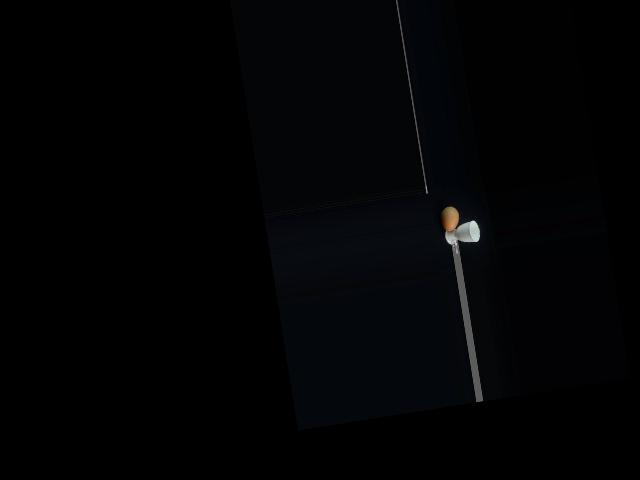egg: (440, 205, 461, 232)
